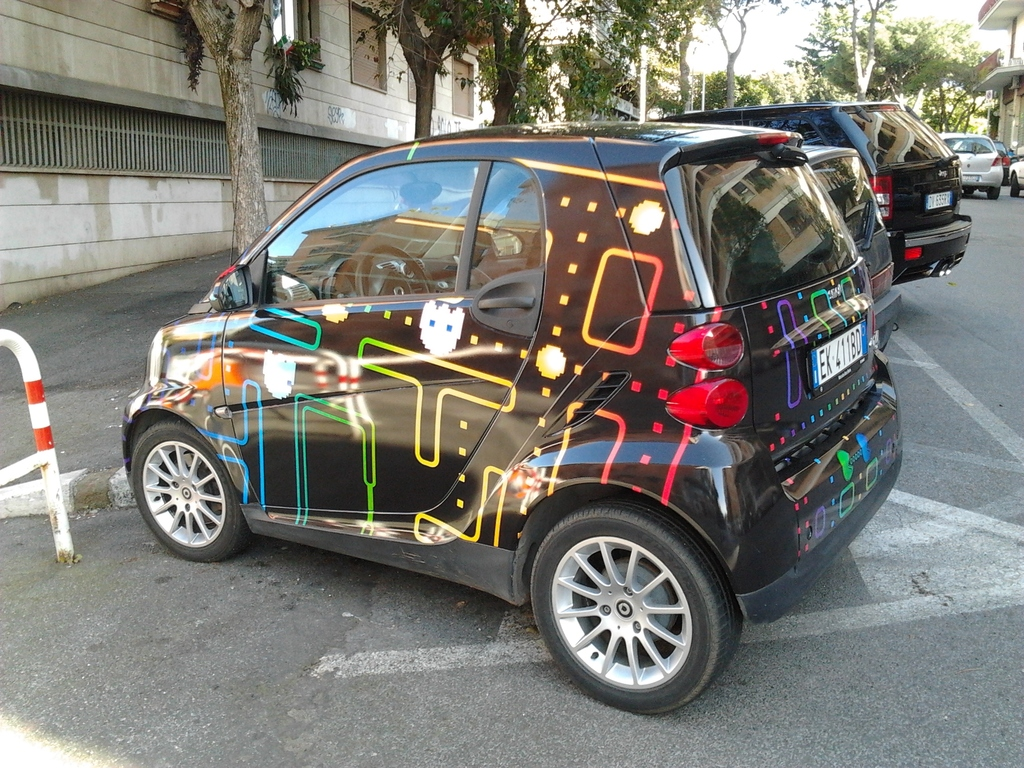license plate: (804, 341, 869, 386)
